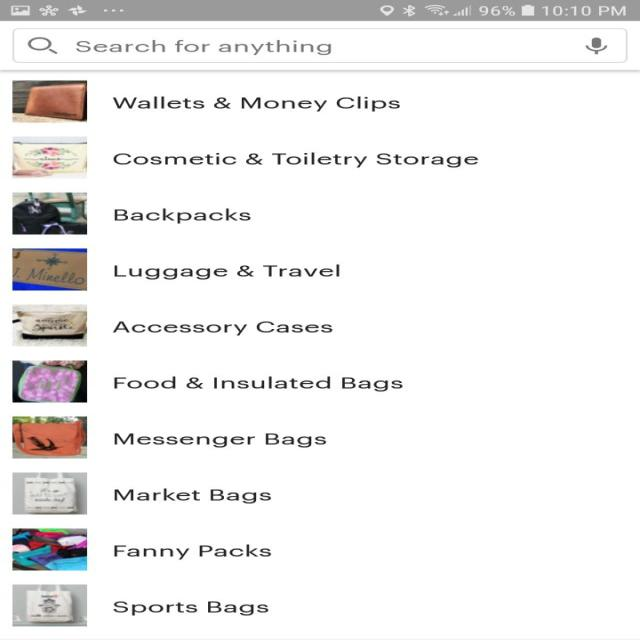EditText: (12, 28, 626, 63)
Icon: (28, 37, 58, 54), (584, 37, 607, 54)
Image: (12, 527, 88, 570), (12, 80, 88, 122), (12, 136, 88, 178), (12, 192, 88, 234), (12, 248, 88, 290), (12, 304, 88, 346), (12, 360, 88, 402), (12, 416, 88, 458), (12, 472, 88, 514), (12, 584, 88, 626)
Text: (112, 152, 478, 168), (113, 375, 403, 392), (112, 96, 400, 112), (76, 40, 332, 54), (111, 320, 332, 336), (113, 264, 340, 279), (112, 433, 326, 447), (113, 543, 271, 560), (114, 487, 272, 504), (112, 600, 268, 616), (114, 208, 250, 223)
